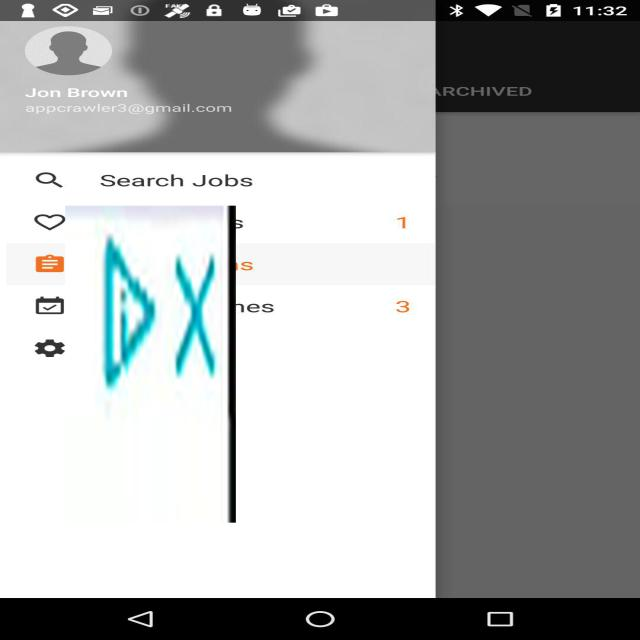sneaking: (65, 205, 236, 522)
